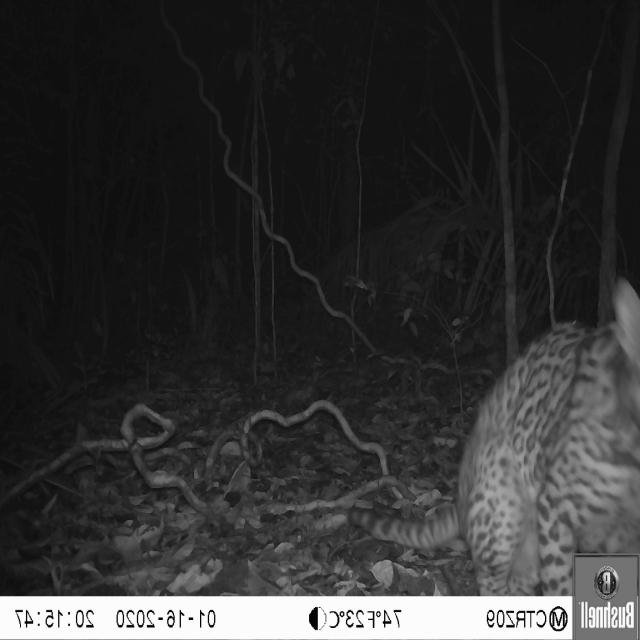Ocelote: (459, 278, 639, 593)
